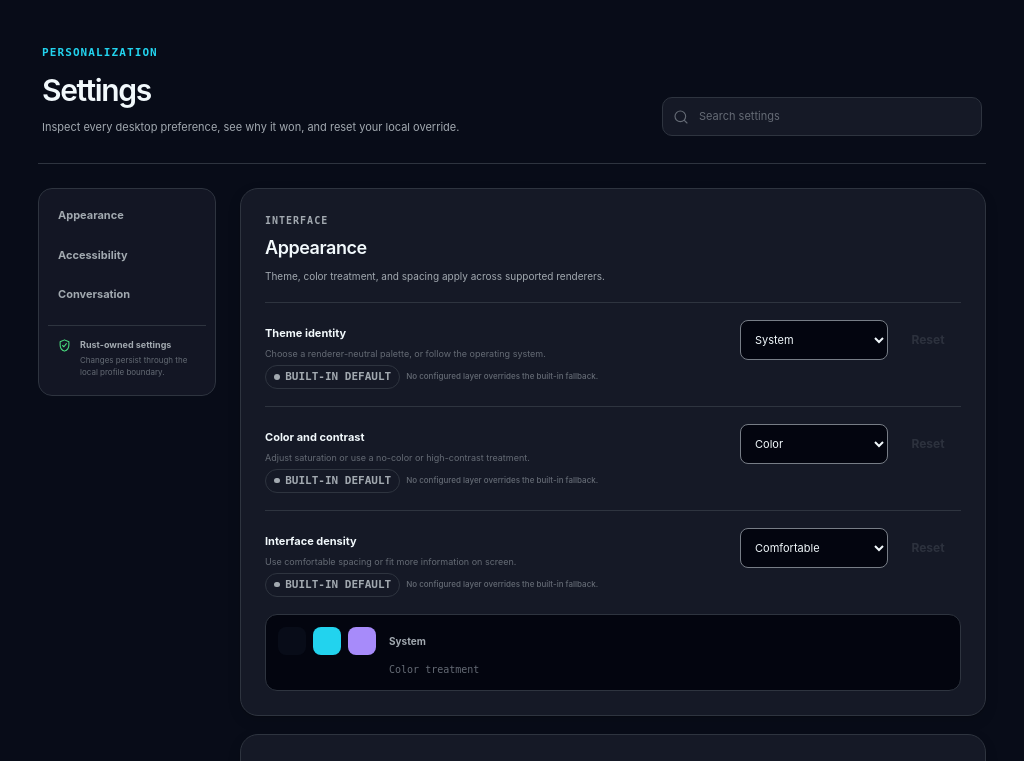
SettingsWorkspace › filters settings by topic without removing the section navigation landmark
Type "zoom" into the search field labelled "Search settings" at (834, 117), box [697,107,971,126]
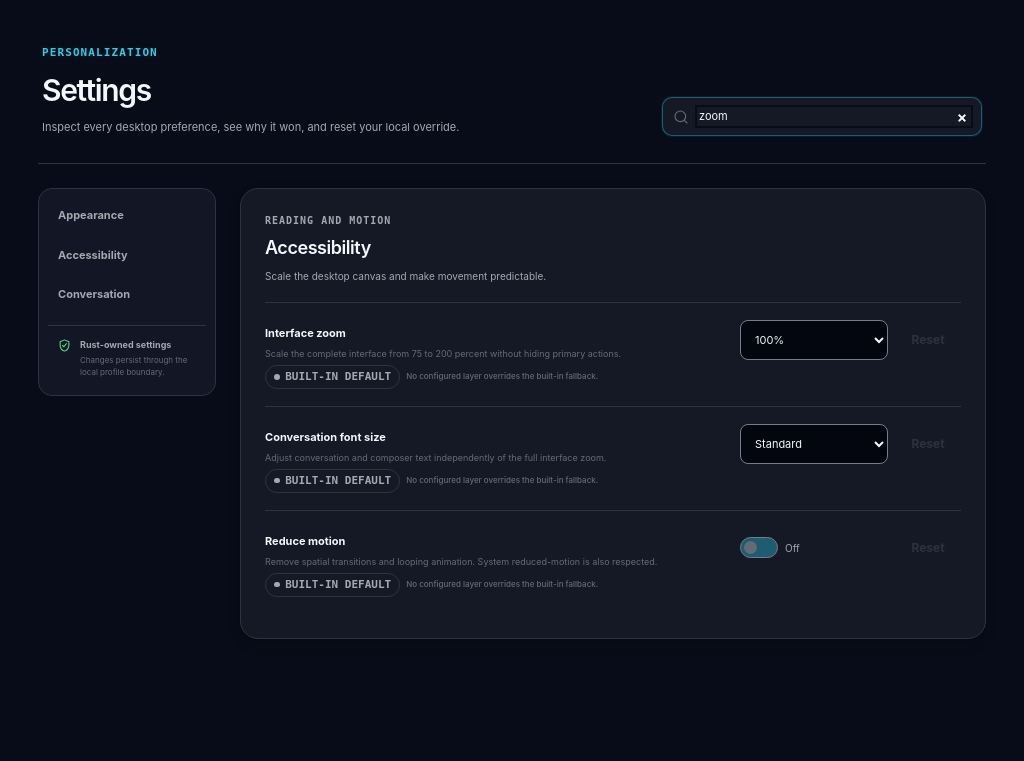
Check: the navigation bar named "Settings sections" is shown, box [38,188,216,396]
Check: the heading "Accessibility" is shown, box [265,237,371,258]
Replace the text in the search field named "Search settings" with "unrelated" at (834, 117), box [697,107,971,126]
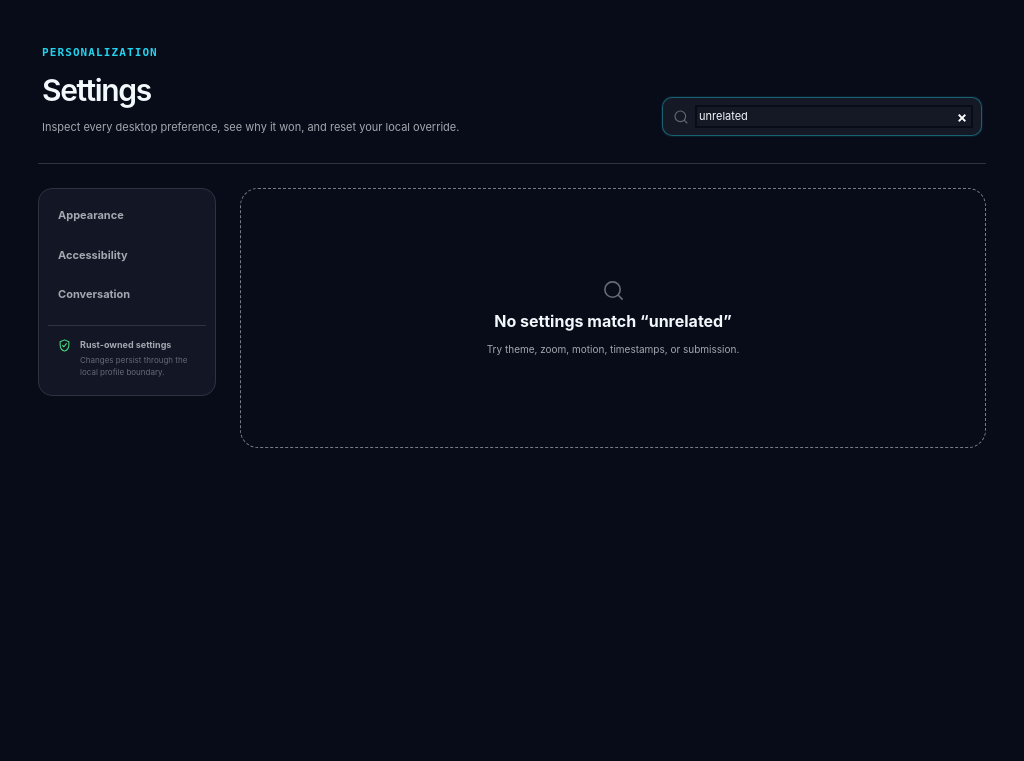
Check: the heading "No settings match “unrelated”" is shown, box [494,309,732,334]
